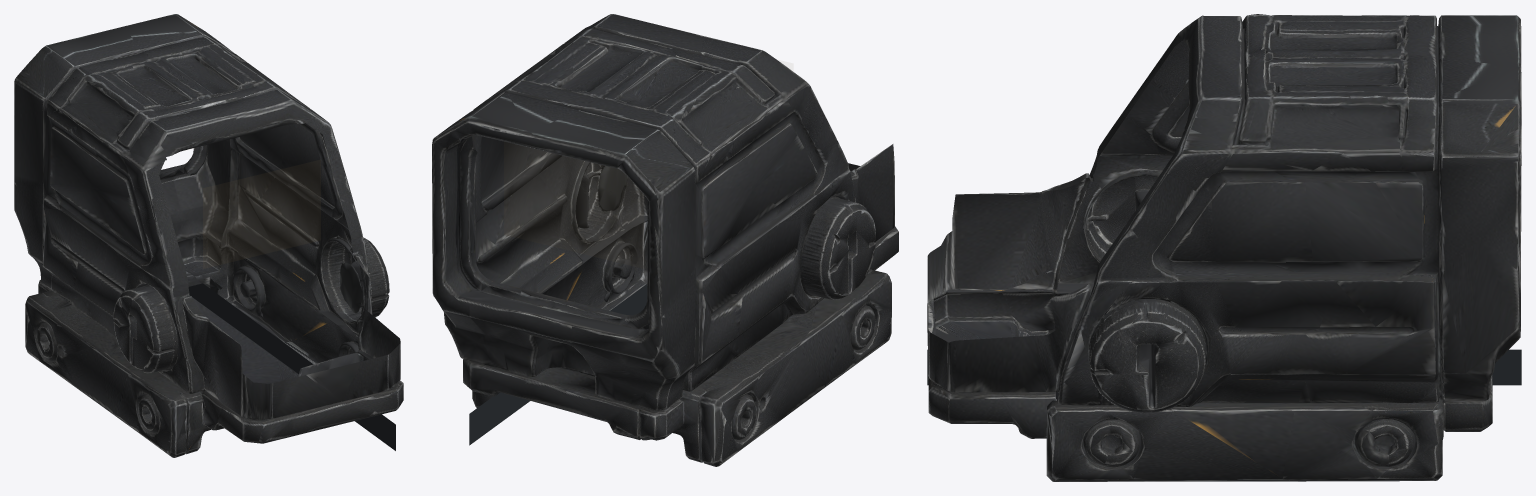
File: ame_reflex_geometry.glb
3 views of the same model, side by side, from view 1: azimuth 30°, elevation 25°; view 2: azimuth 150°, elevation 25°; view 3: azimuth 270°, elevation 25° (orthographic). The views are drawn at different scales.
Visible parts, largest first — view 1: Ame_Reflex_Housing; view 2: Ame_Reflex_Housing; view 3: Ame_Reflex_Housing.
Part boxes in pixels (x1=…): Ame_Reflex_Housing: x1=14, y1=14, x2=403, y2=457; Ame_Reflex_Housing: x1=432, y1=14, x2=898, y2=466; Ame_Reflex_Housing: x1=927, y1=14, x2=1521, y2=481.
Bounding box in the file's own units: 0.042 × 0.0466 × 0.0679.
3 materials, 1 textured.
